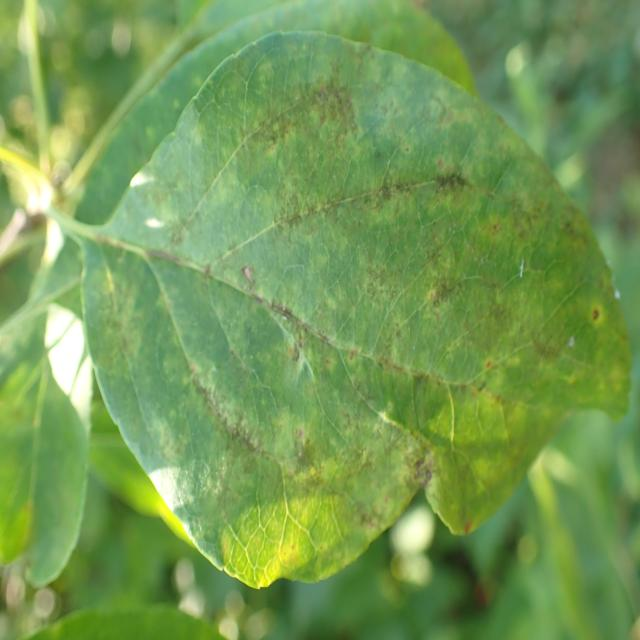scab: (85, 58, 635, 526)
